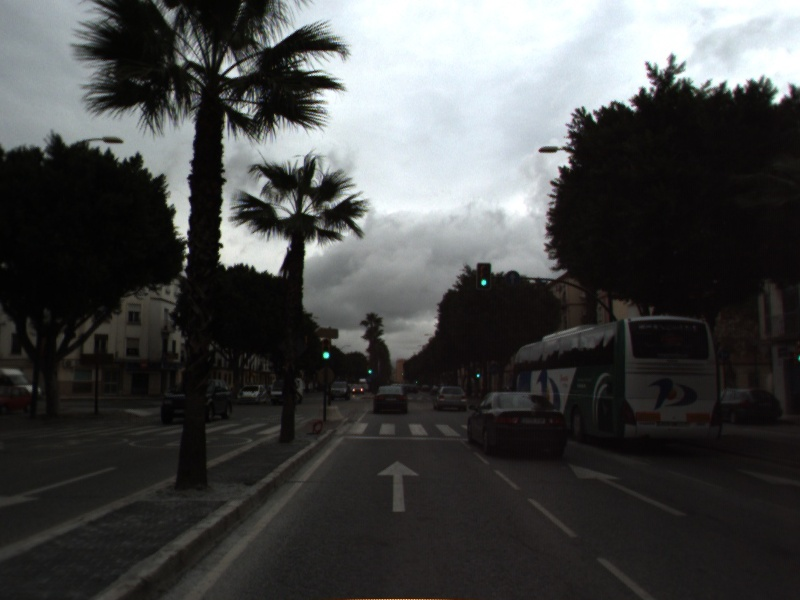STRAIGHT: (566, 461, 689, 518), (375, 458, 423, 514)
